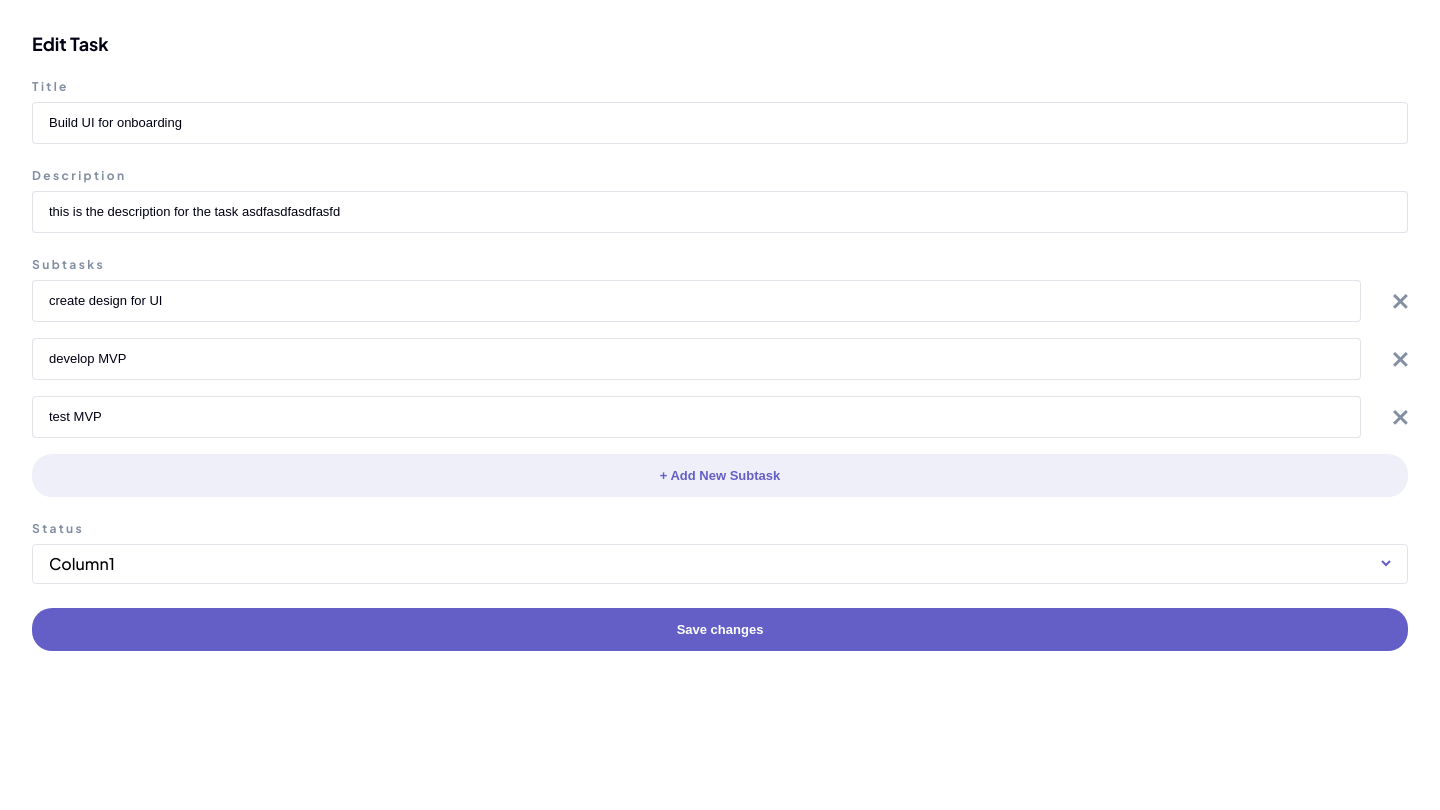
Test case: UpdateTaskModal › status updates when a new dropdown item is selected
Click the text with test id "dropdown-value" at (82, 564), box top-left (49, 553), bottom-right (115, 574)
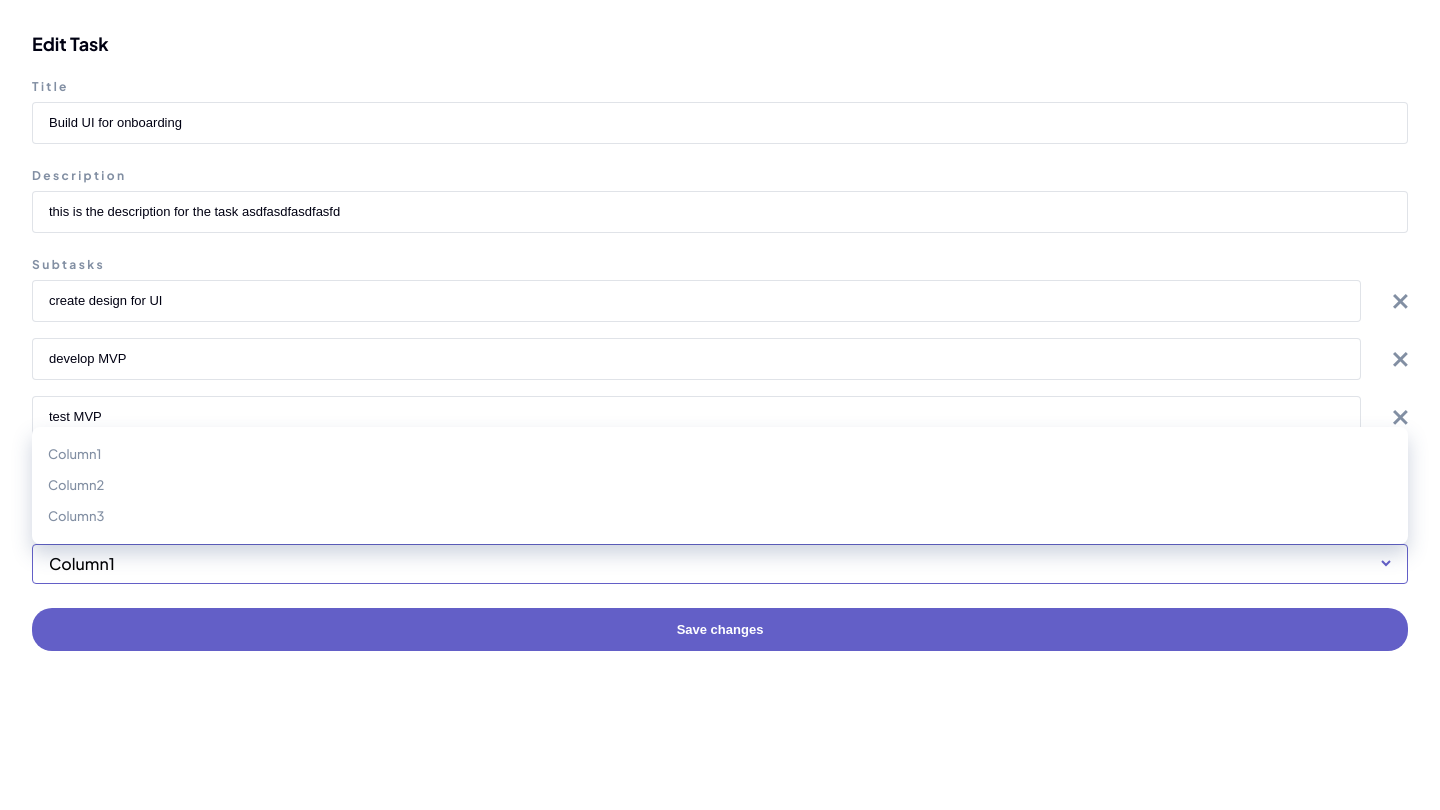
Click the list item with test id "dropdown-option" showing "Column2" at (76, 485), box top-left (48, 477), bottom-right (104, 493)
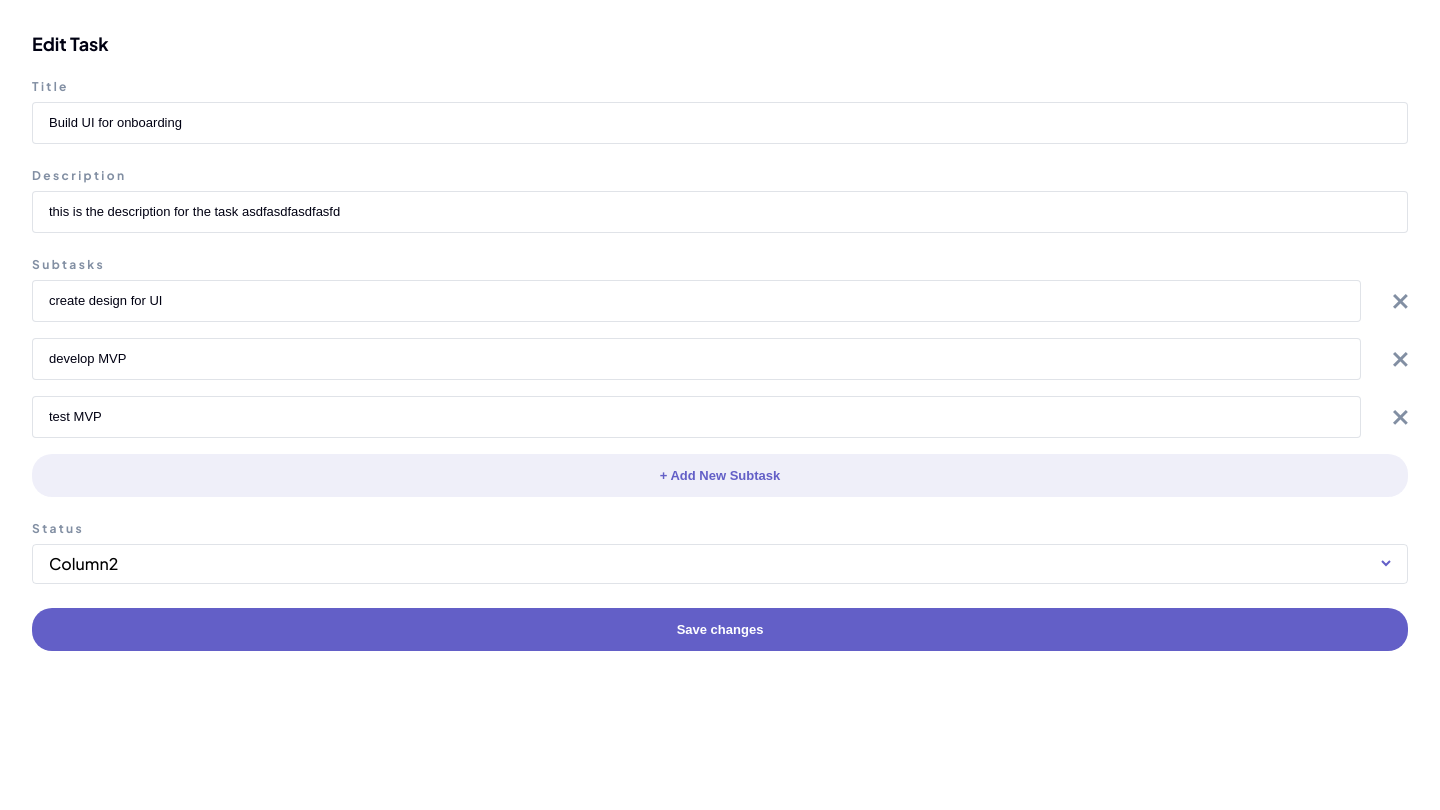
Check: the text with test id "dropdown-value" reads "Column2", box top-left (49, 553), bottom-right (118, 574)
